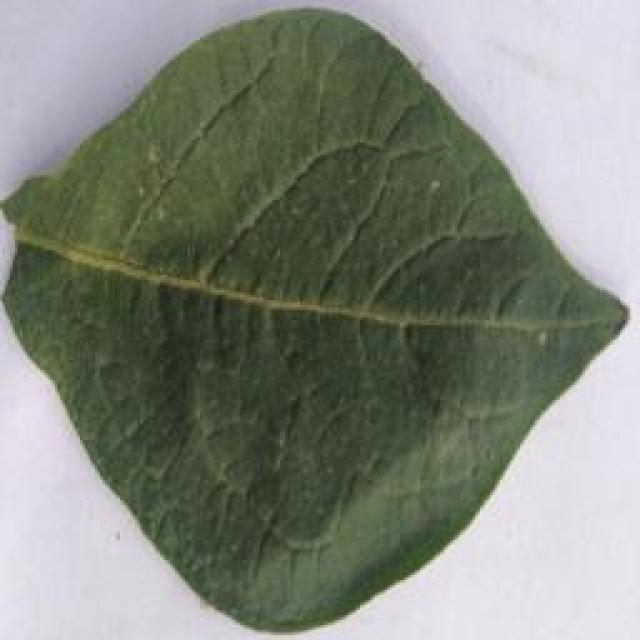Potato_Healthy: (6, 7, 632, 634)
